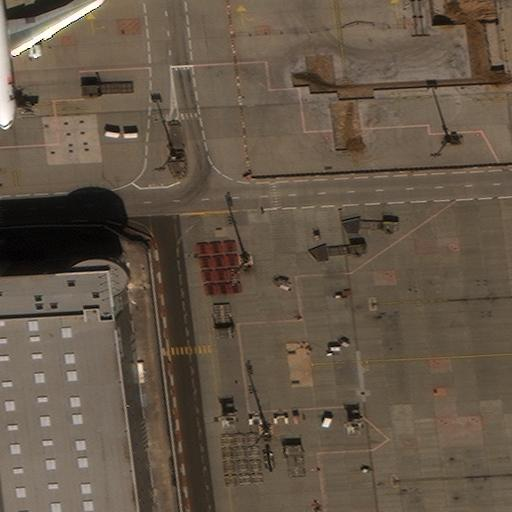Large Civil Transport: (0, 0, 104, 129)
